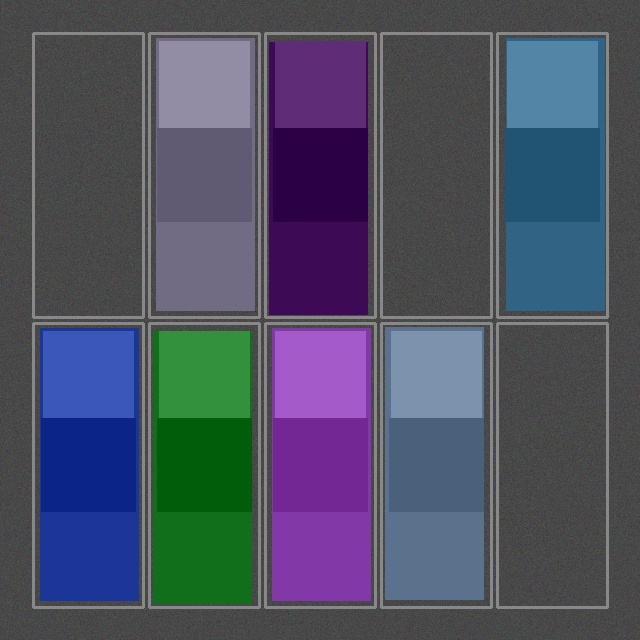space-empty: (35, 35, 141, 315), (383, 35, 489, 315), (499, 325, 605, 605)
space-occupied: (151, 35, 257, 315), (267, 35, 373, 315), (499, 35, 605, 315), (35, 325, 141, 605), (151, 325, 257, 605), (267, 325, 373, 605), (383, 325, 489, 605)
